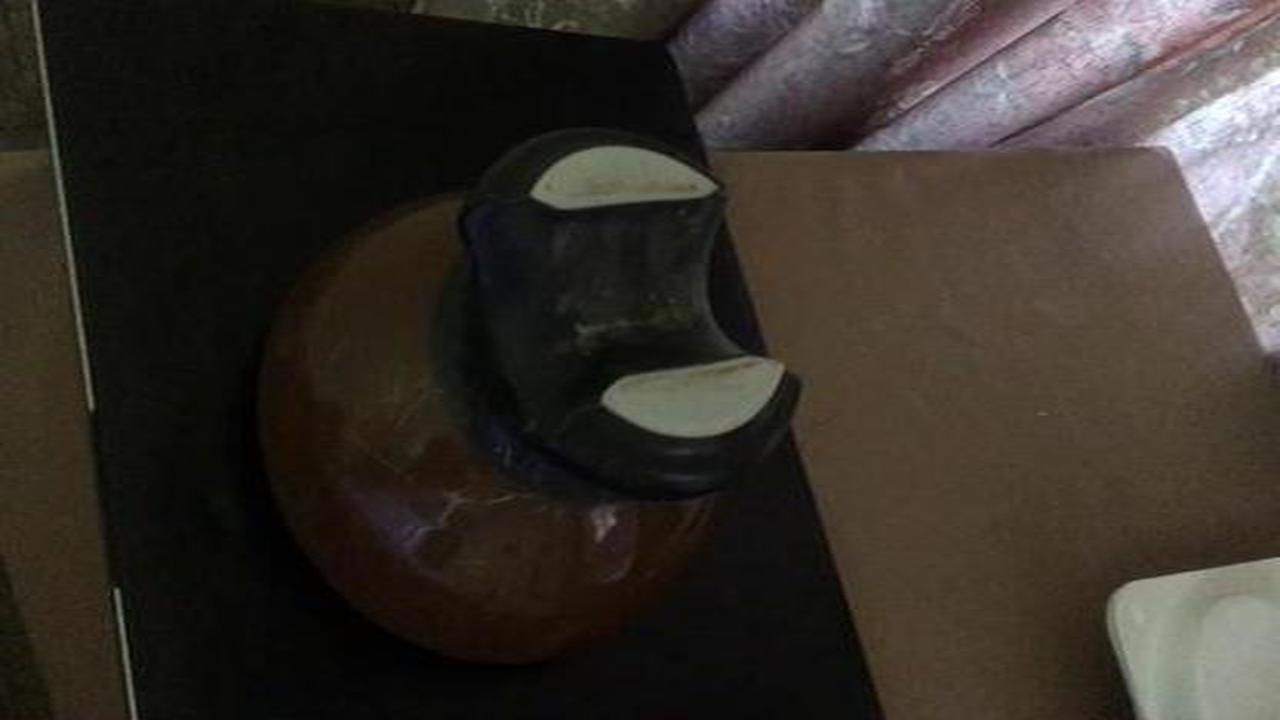insulator_pin: (228, 108, 825, 708)
